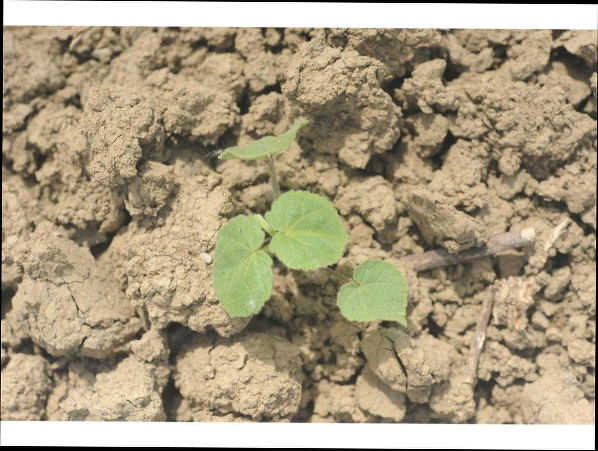velvet: (213, 116, 407, 333)
